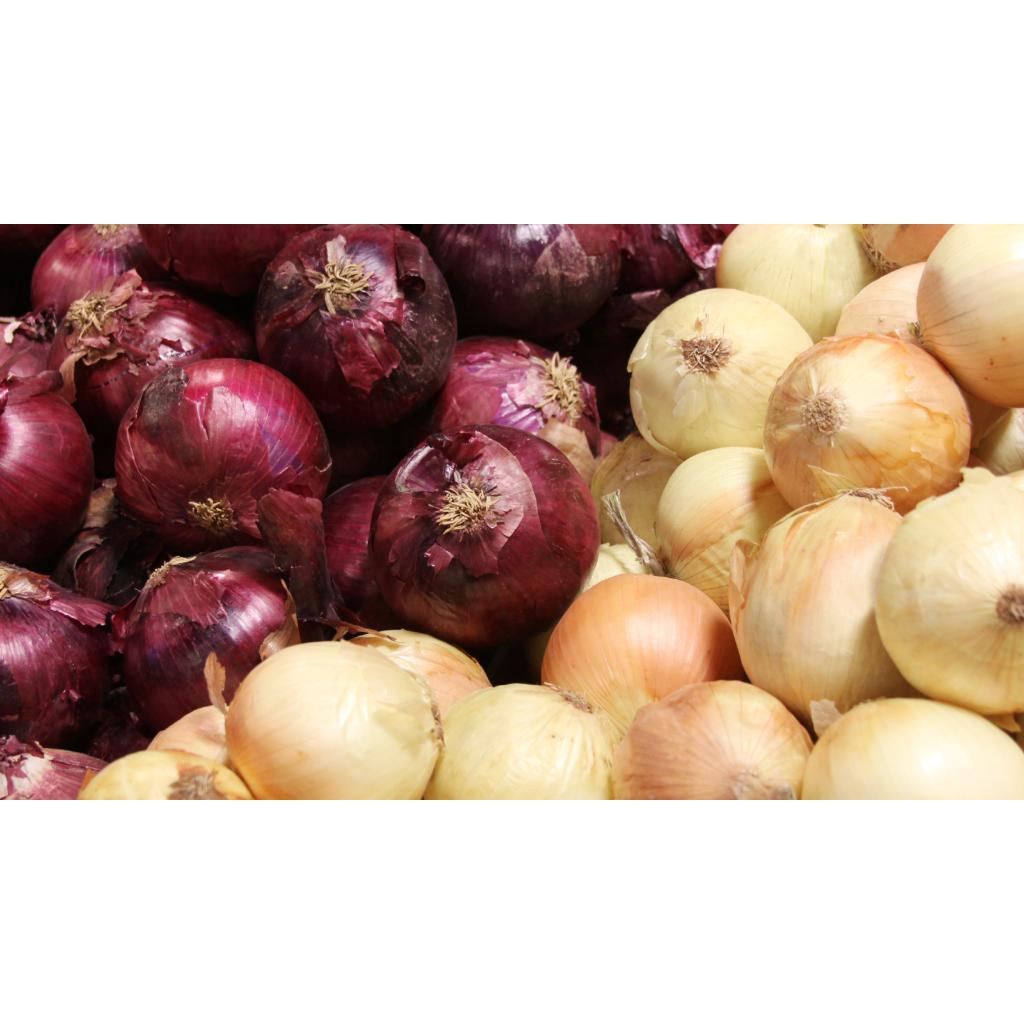Onion: (369, 424, 601, 647), (730, 488, 921, 724), (114, 357, 332, 552), (254, 224, 457, 430), (765, 332, 973, 513), (877, 467, 1024, 715), (46, 268, 254, 437), (225, 641, 444, 800), (542, 574, 745, 732), (628, 287, 814, 458), (122, 546, 286, 731), (427, 335, 611, 484), (612, 680, 814, 800), (420, 224, 621, 340), (655, 447, 794, 613), (424, 684, 621, 800), (803, 699, 1024, 800), (0, 561, 113, 747), (918, 224, 1024, 406), (717, 224, 881, 341), (0, 391, 93, 564), (29, 224, 167, 319), (137, 224, 318, 295), (76, 750, 253, 800), (837, 260, 928, 345)
